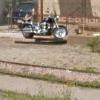Motorcycle: (17, 14, 72, 46)
